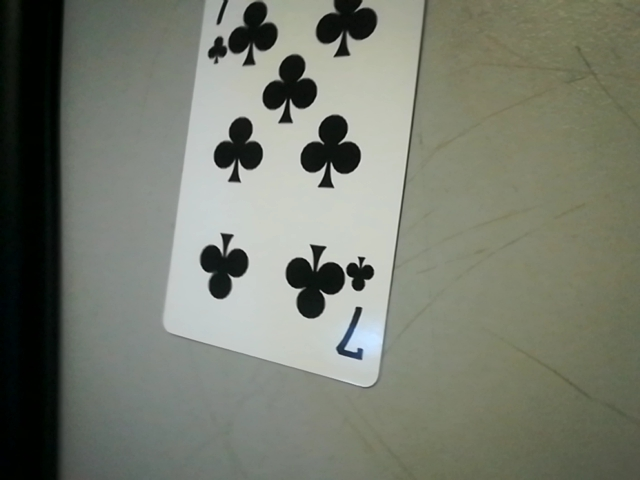mh 7: (336, 261, 387, 373)
